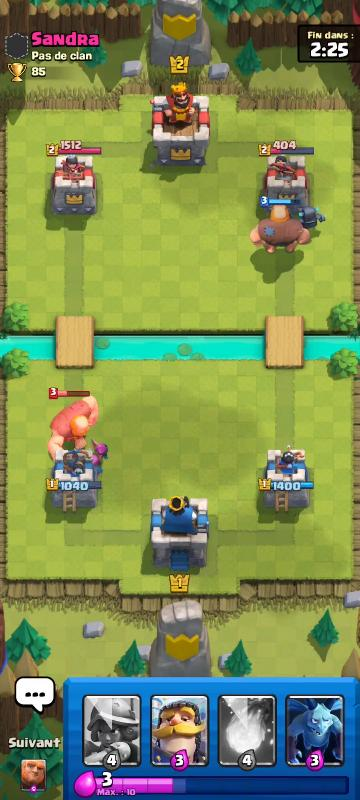archere: (92, 440, 109, 465), (89, 455, 102, 477)
geant: (48, 399, 101, 460), (252, 204, 309, 259)
mini_PEKKA: (300, 195, 328, 231)
